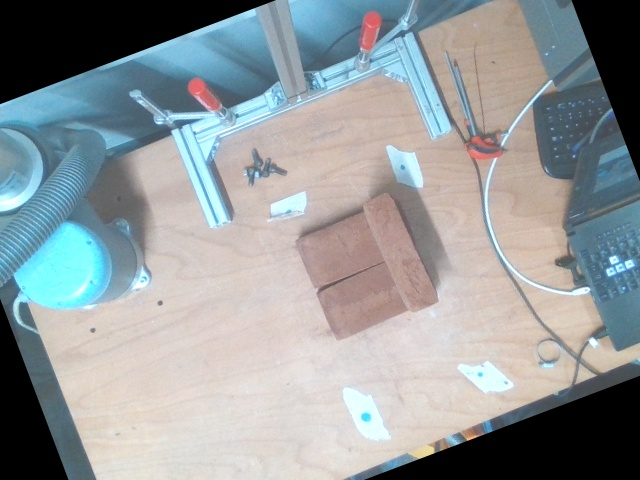brick-side: (362, 194, 437, 309)
